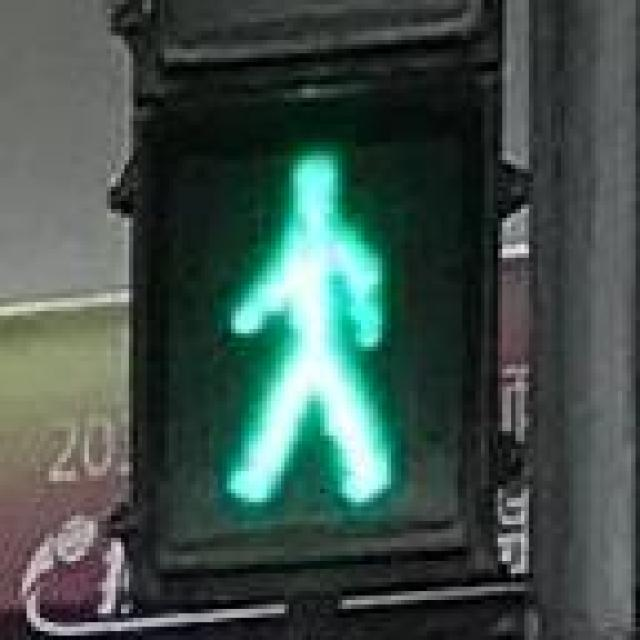geen-crossing: (160, 102, 471, 529)
